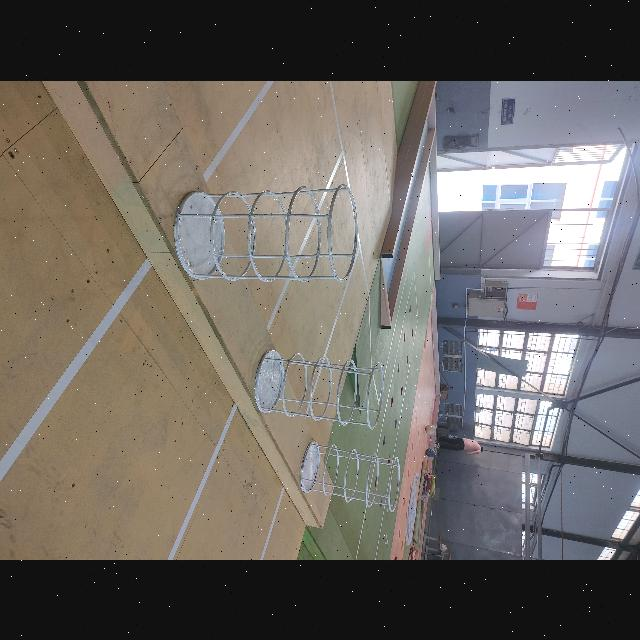S: (174, 183, 359, 282), (255, 349, 384, 429), (301, 440, 401, 514)
